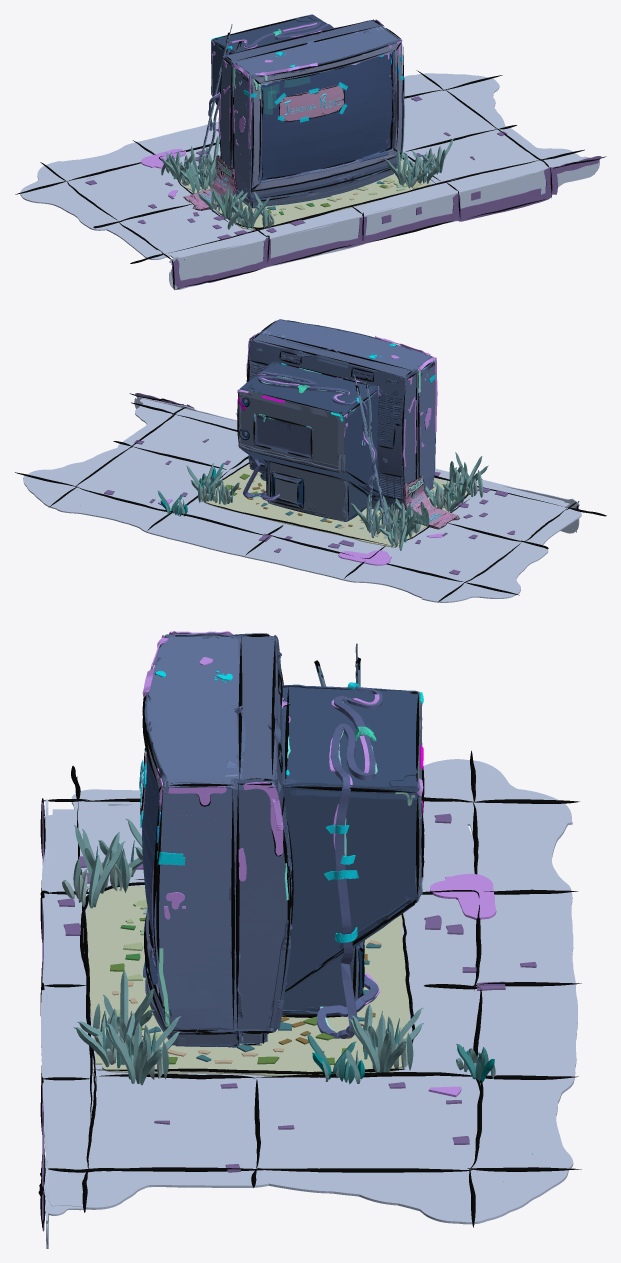
The model's file is larger 2Psalm- 119_105-a.glb.
3 renders of one model, top to bottom at view 1: azimuth 30°, elevation 25°; view 2: azimuth 150°, elevation 25°; view 3: azimuth 270°, elevation 25°, orthographic. The views are drawn at different scales.
Visible parts, largest first — view 1: group_19, group_4, group_3, group_20, group_1, group_8, group_18, group_2, group_0, group_11, group_7, group_6 (+6 smaller); view 2: group_19, group_6, group_2, group_1, group_8, group_11, group_18, group_0, group_7, group_9, group_20, group_13 (+2 smaller); view 3: group_19, group_6, group_1, group_2, group_11, group_8, group_18, group_0, group_7, group_9, group_20, group_4 (+2 smaller).
Boxes of the visible parts, <box> form: group_19: <box>20,73,599,289</box>; group_4: <box>259,53,397,181</box>; group_3: <box>249,39,402,197</box>; group_20: <box>85,96,601,288</box>; group_1: <box>234,26,404,197</box>; group_8: <box>161,136,453,229</box>; group_18: <box>15,70,606,289</box>; group_2: <box>219,19,402,202</box>; group_0: <box>215,16,404,207</box>; group_11: <box>172,159,430,229</box>; group_7: <box>141,14,404,196</box>; group_6: <box>211,14,393,208</box>; group_19: <box>23,397,581,602</box>; group_6: <box>238,361,428,521</box>; group_2: <box>247,319,435,505</box>; group_1: <box>241,320,435,491</box>; group_8: <box>157,413,488,550</box>; group_11: <box>205,464,468,547</box>; group_18: <box>15,393,606,602</box>; group_0: <box>237,321,435,520</box>; group_7: <box>158,334,443,565</box>; group_9: <box>243,371,376,500</box>; group_20: <box>104,393,579,574</box>; group_13: <box>403,475,459,529</box>; group_19: <box>41,759,577,1248</box>; group_6: <box>143,670,423,1047</box>; group_1: <box>146,636,421,1029</box>; group_2: <box>144,633,421,1035</box>; group_11: <box>86,886,409,1076</box>; group_8: <box>62,818,495,1085</box>; group_18: <box>38,750,581,1231</box>; group_0: <box>140,634,424,1047</box>; group_7: <box>142,631,496,1097</box>; group_9: <box>317,687,382,1038</box>; group_20: <box>42,802,536,1230</box>; group_4: <box>142,753,159,984</box>.
Bounding box in the file's own units: 5.17 × 1.79 × 2.48.
